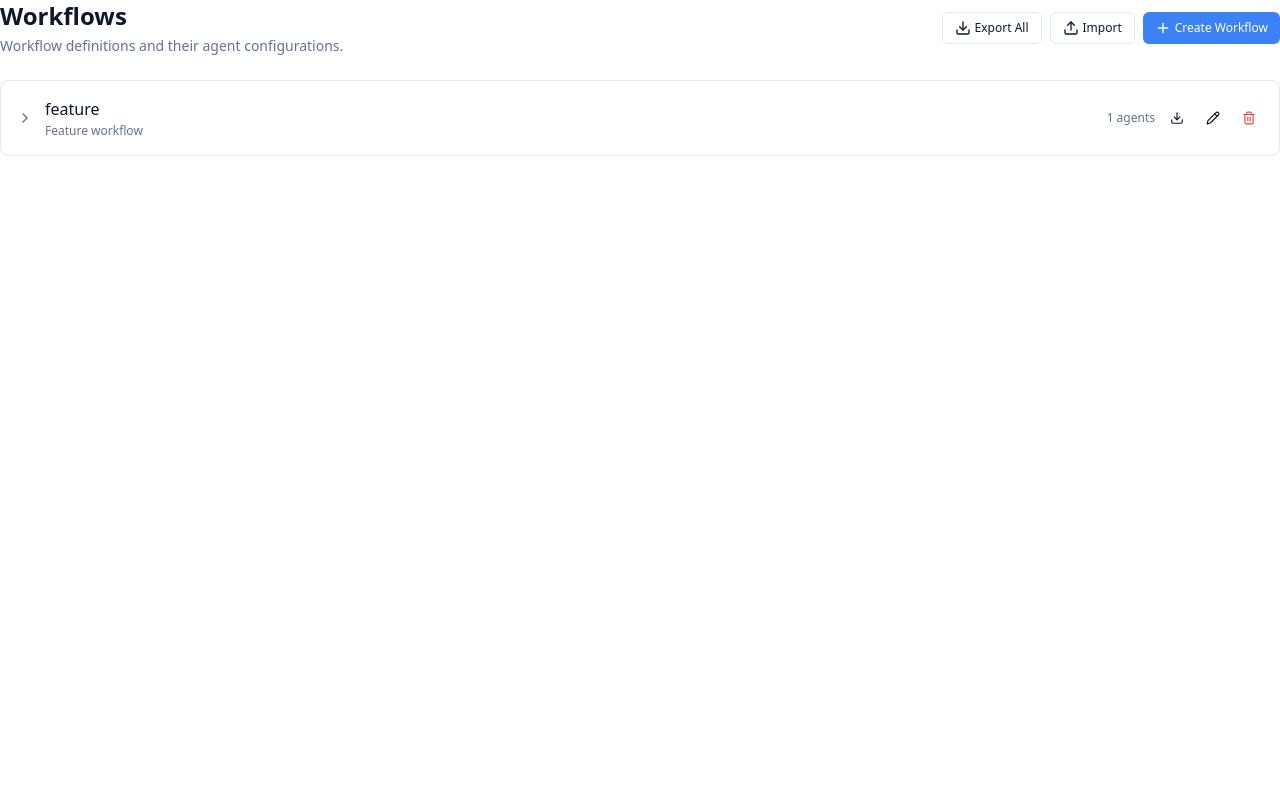
it: WorkflowsPage – DialogFooter buttons › Edit dialog › Cancel button closes the edit dialog
The image size is (1280, 800).
Click the button titled "Edit workflow": x=1213, y=118 [1199,104,1227,132]
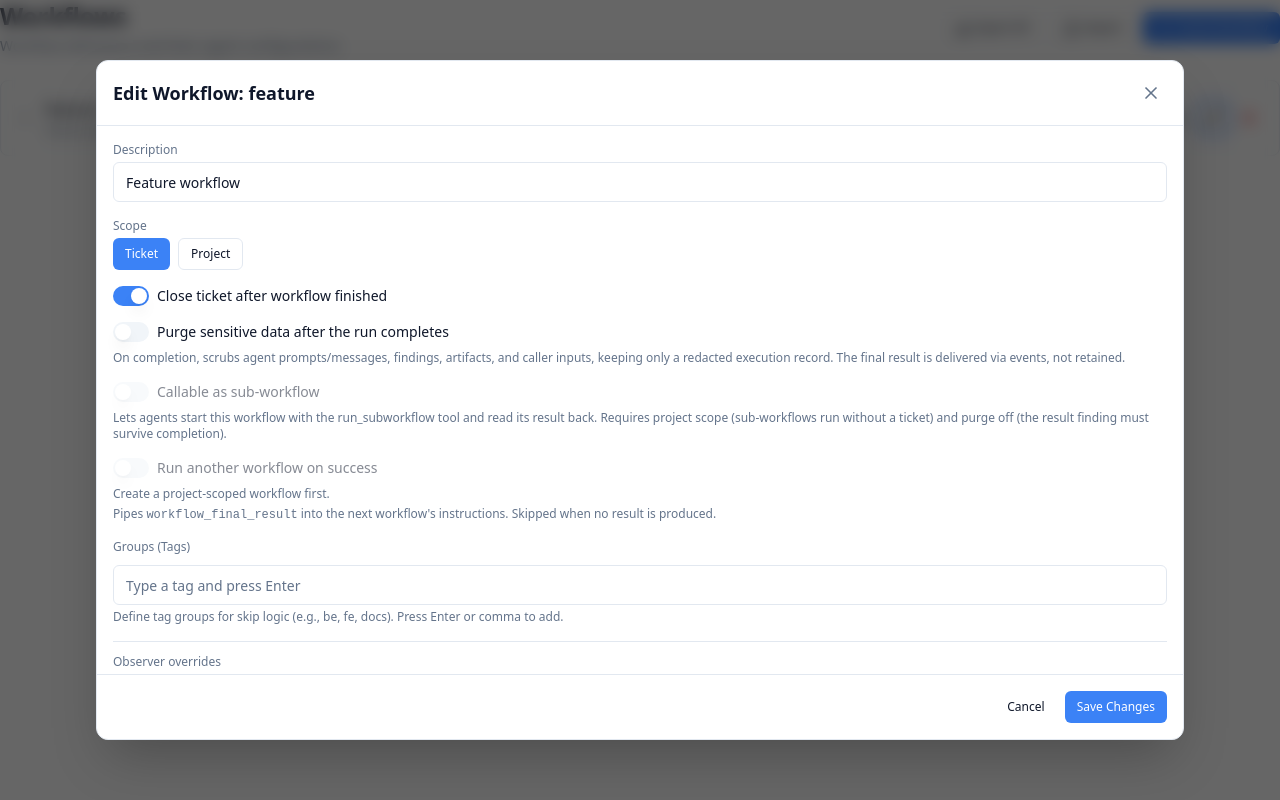
Expected: the heading "Edit Workflow: feature" is shown, [113,81,315,105]
Click the button "Cancel": x=1026, y=707 [995,691,1057,723]
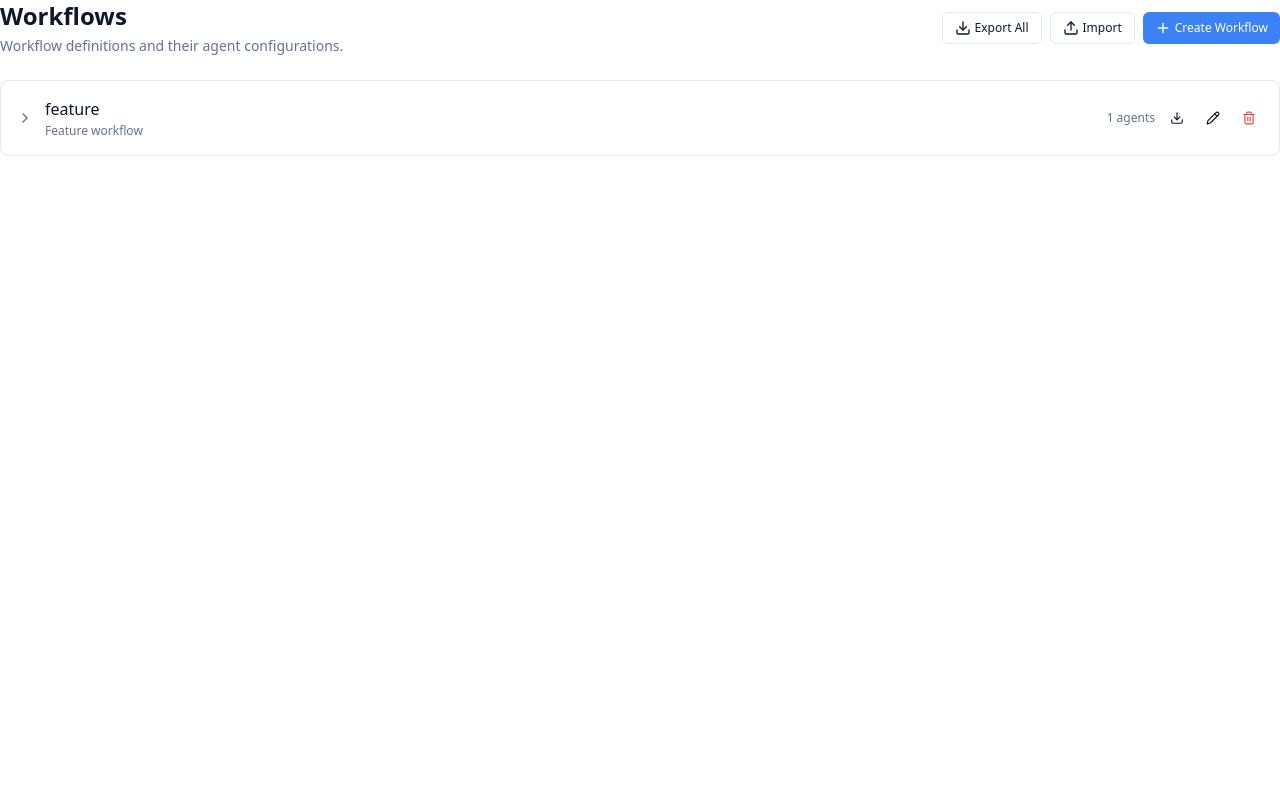
Expected: the heading "Edit Workflow: feature" is gone
